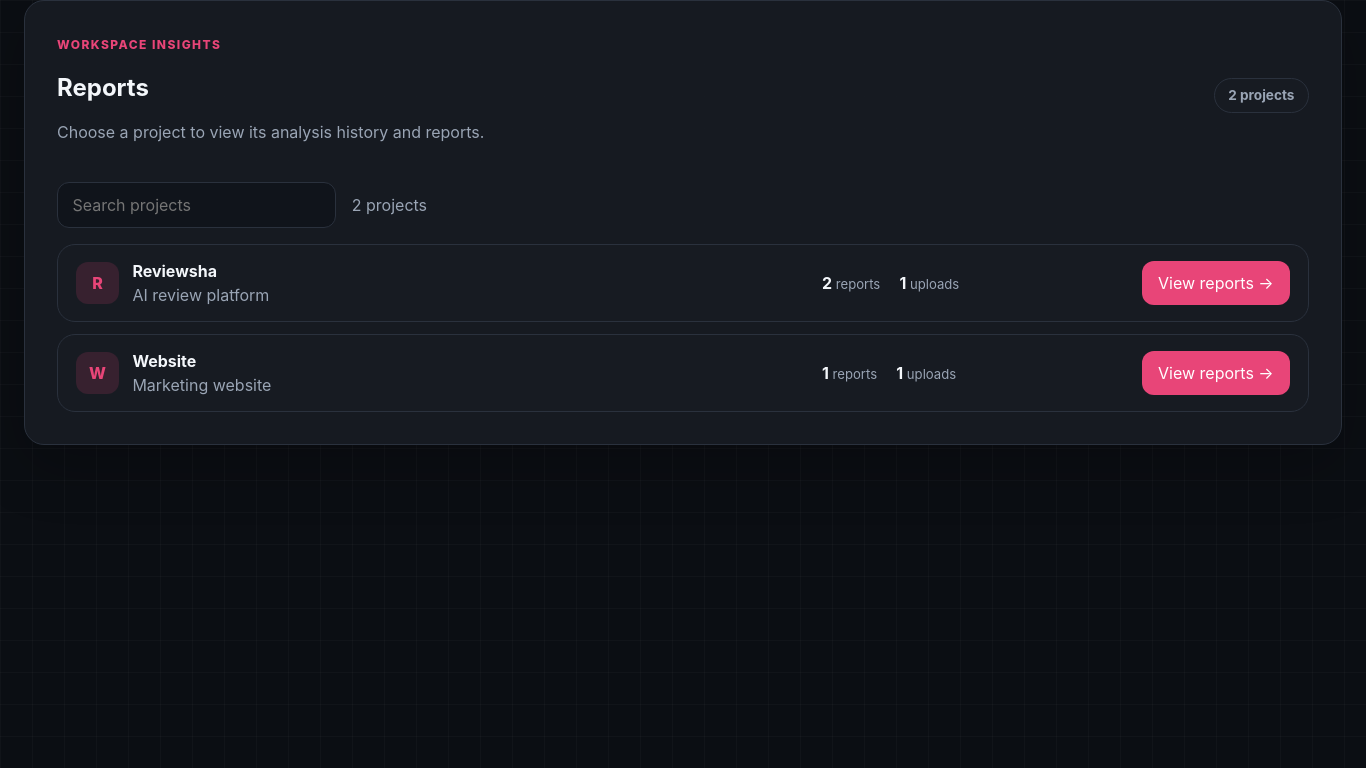
Test: ReportsPage project chooser › filters projects by name
The image size is (1366, 768).
Step 1. Type "website" into the field named "Search projects for reports" → [196, 205], box top-left (57, 182), bottom-right (336, 228)
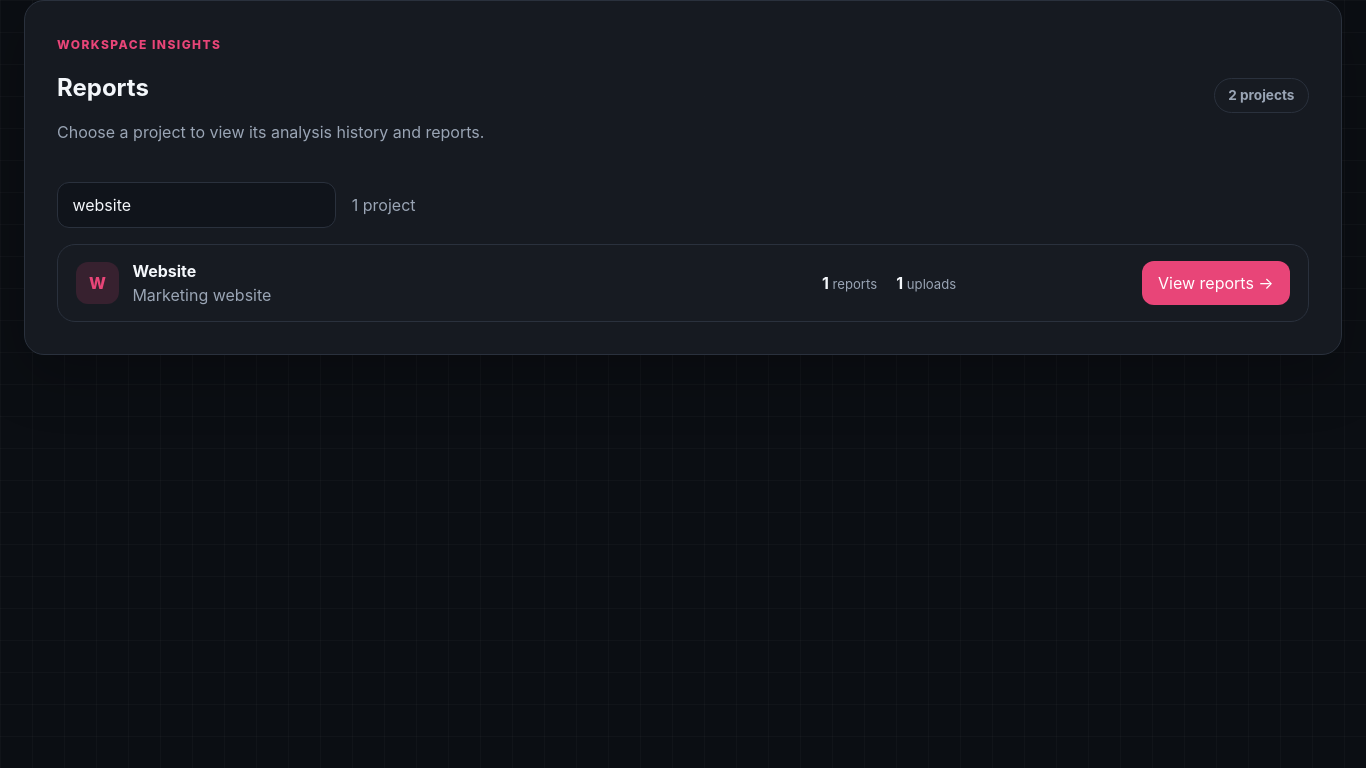
Expected: the heading "Website" is shown, top-left (132, 261), bottom-right (196, 281)
Expected: the link "Reviewsha" is gone
